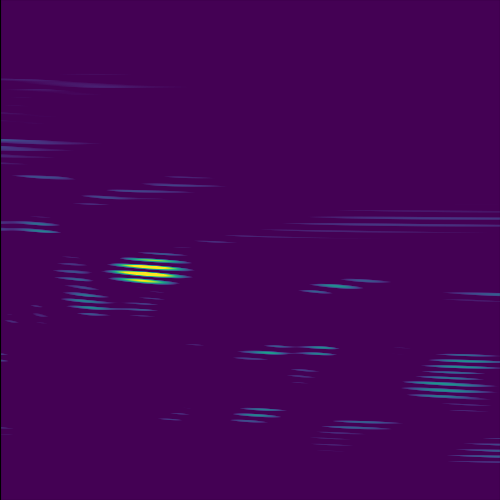semblance: (103, 251, 192, 287)
